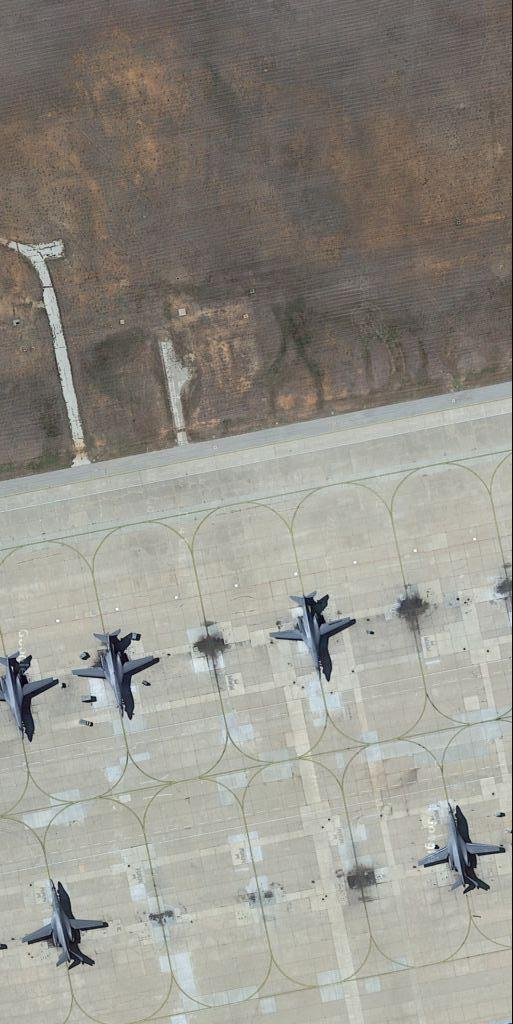B-1B: (411, 802, 507, 899), (268, 586, 353, 685), (20, 880, 111, 971), (74, 625, 158, 721), (1, 647, 60, 741)
